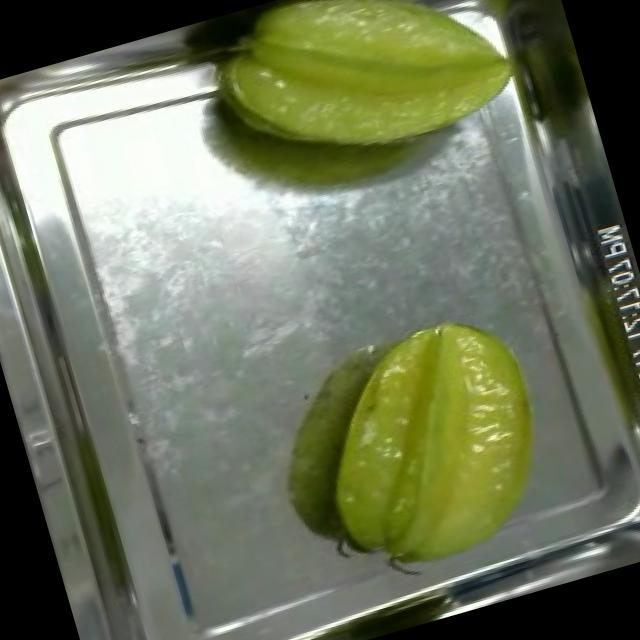fruit: (276, 288, 582, 602), (186, 0, 543, 204)
